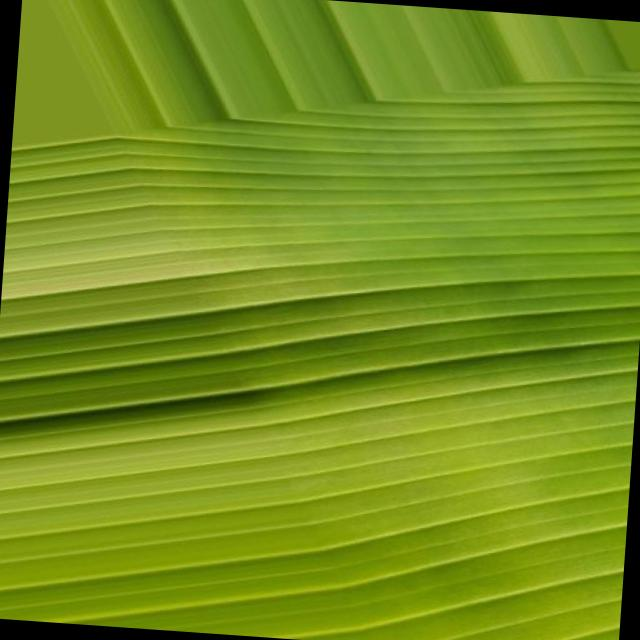Banana_Healthy: (31, 64, 640, 640)
